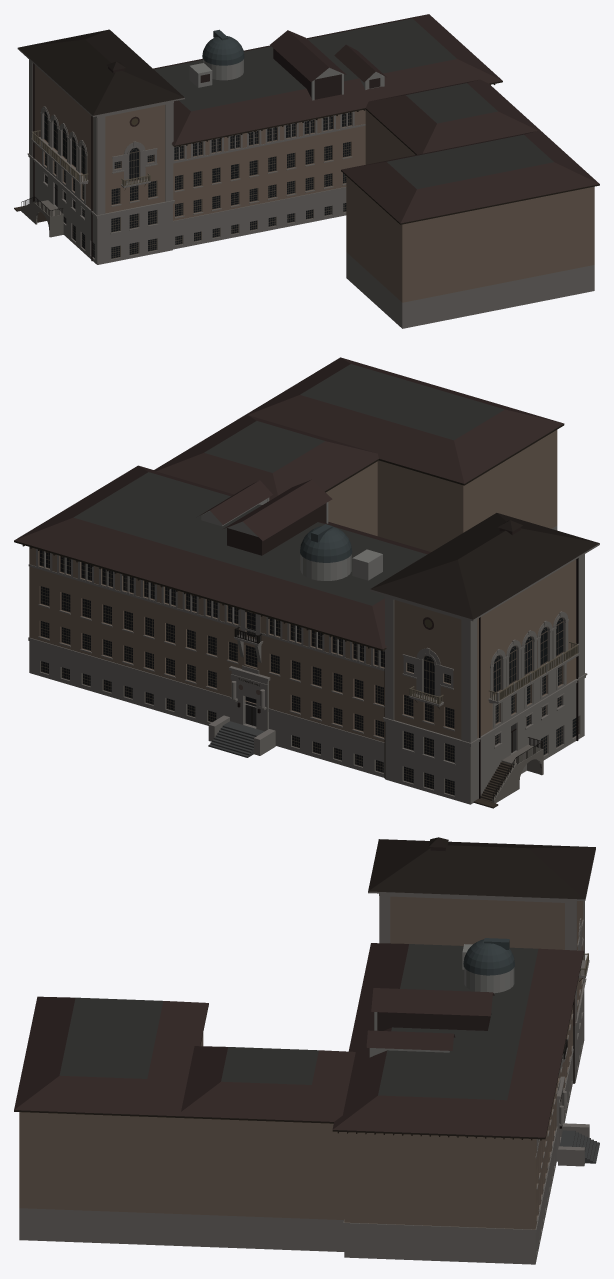
The model's file is t-s-painter-hall-look.glb.
3 renders of one model, top to bottom at view 1: azimuth 30°, elevation 25°; view 2: azimuth 150°, elevation 25°; view 3: azimuth 270°, elevation 25°, orthographic. The views are drawn at different scales.
Parts seen in each view (by area): view 1: n_wall_brick, n_roof_tile_red, n_wall_stone, n_roof_flat_grey, n_roof_tile_weathered, n_glass_window, n_window_frame_paint, n_trim_white_paint, n_louvre_copper, n_eave_wood_dark, n_dome_copper, n_stair_concrete (+2 smaller); view 2: n_wall_brick, n_roof_tile_red, n_wall_stone, n_roof_flat_grey, n_glass_window, n_roof_tile_weathered, n_window_frame_paint, n_trim_white_paint, n_louvre_copper, n_eave_wood_dark, n_dome_copper, n_stair_concrete (+5 smaller); view 3: n_wall_brick, n_roof_tile_red, n_wall_stone, n_roof_flat_grey, n_roof_tile_weathered, n_louvre_copper, n_dome_copper, n_eave_wood_dark, n_trim_white_paint, n_steps_granite.
Boxes of the visible parts, x1,y1,x2,y2 form: n_wall_brick: [33, 63, 594, 302]; n_roof_tile_red: [153, 14, 599, 223]; n_wall_stone: [17, 48, 594, 328]; n_roof_flat_grey: [154, 18, 553, 189]; n_roof_tile_weathered: [18, 29, 184, 115]; n_glass_window: [44, 112, 351, 258]; n_window_frame_paint: [44, 111, 351, 258]; n_trim_white_paint: [189, 59, 384, 100]; n_louvre_copper: [108, 48, 380, 99]; n_eave_wood_dark: [172, 81, 599, 224]; n_dome_copper: [202, 29, 244, 65]; n_stair_concrete: [20, 200, 63, 237]; n_wall_brick: [29, 430, 576, 742]; n_roof_tile_red: [14, 357, 563, 649]; n_wall_stone: [28, 525, 599, 804]; n_roof_flat_grey: [73, 364, 504, 605]; n_glass_window: [40, 550, 578, 794]; n_roof_tile_weathered: [370, 513, 599, 619]; n_window_frame_paint: [39, 550, 579, 795]; n_trim_white_paint: [201, 497, 382, 580]; n_louvre_copper: [227, 503, 520, 555]; n_eave_wood_dark: [14, 424, 564, 650]; n_dome_copper: [300, 524, 352, 562]; n_stair_concrete: [492, 744, 543, 803]; n_wall_brick: [19, 896, 583, 1229]; n_roof_tile_red: [14, 943, 583, 1137]; n_wall_stone: [19, 849, 595, 1264]; n_roof_flat_grey: [59, 944, 538, 1100]; n_roof_tile_weathered: [368, 837, 595, 899]; n_louvre_copper: [377, 847, 491, 1030]; n_dome_copper: [463, 938, 514, 975]; n_eave_wood_dark: [14, 952, 583, 1140]; n_trim_white_paint: [369, 944, 514, 1057]; n_steps_granite: [559, 1130, 599, 1163].
Size of the model in its own units: 68.02 by 28.81 by 69.75.
